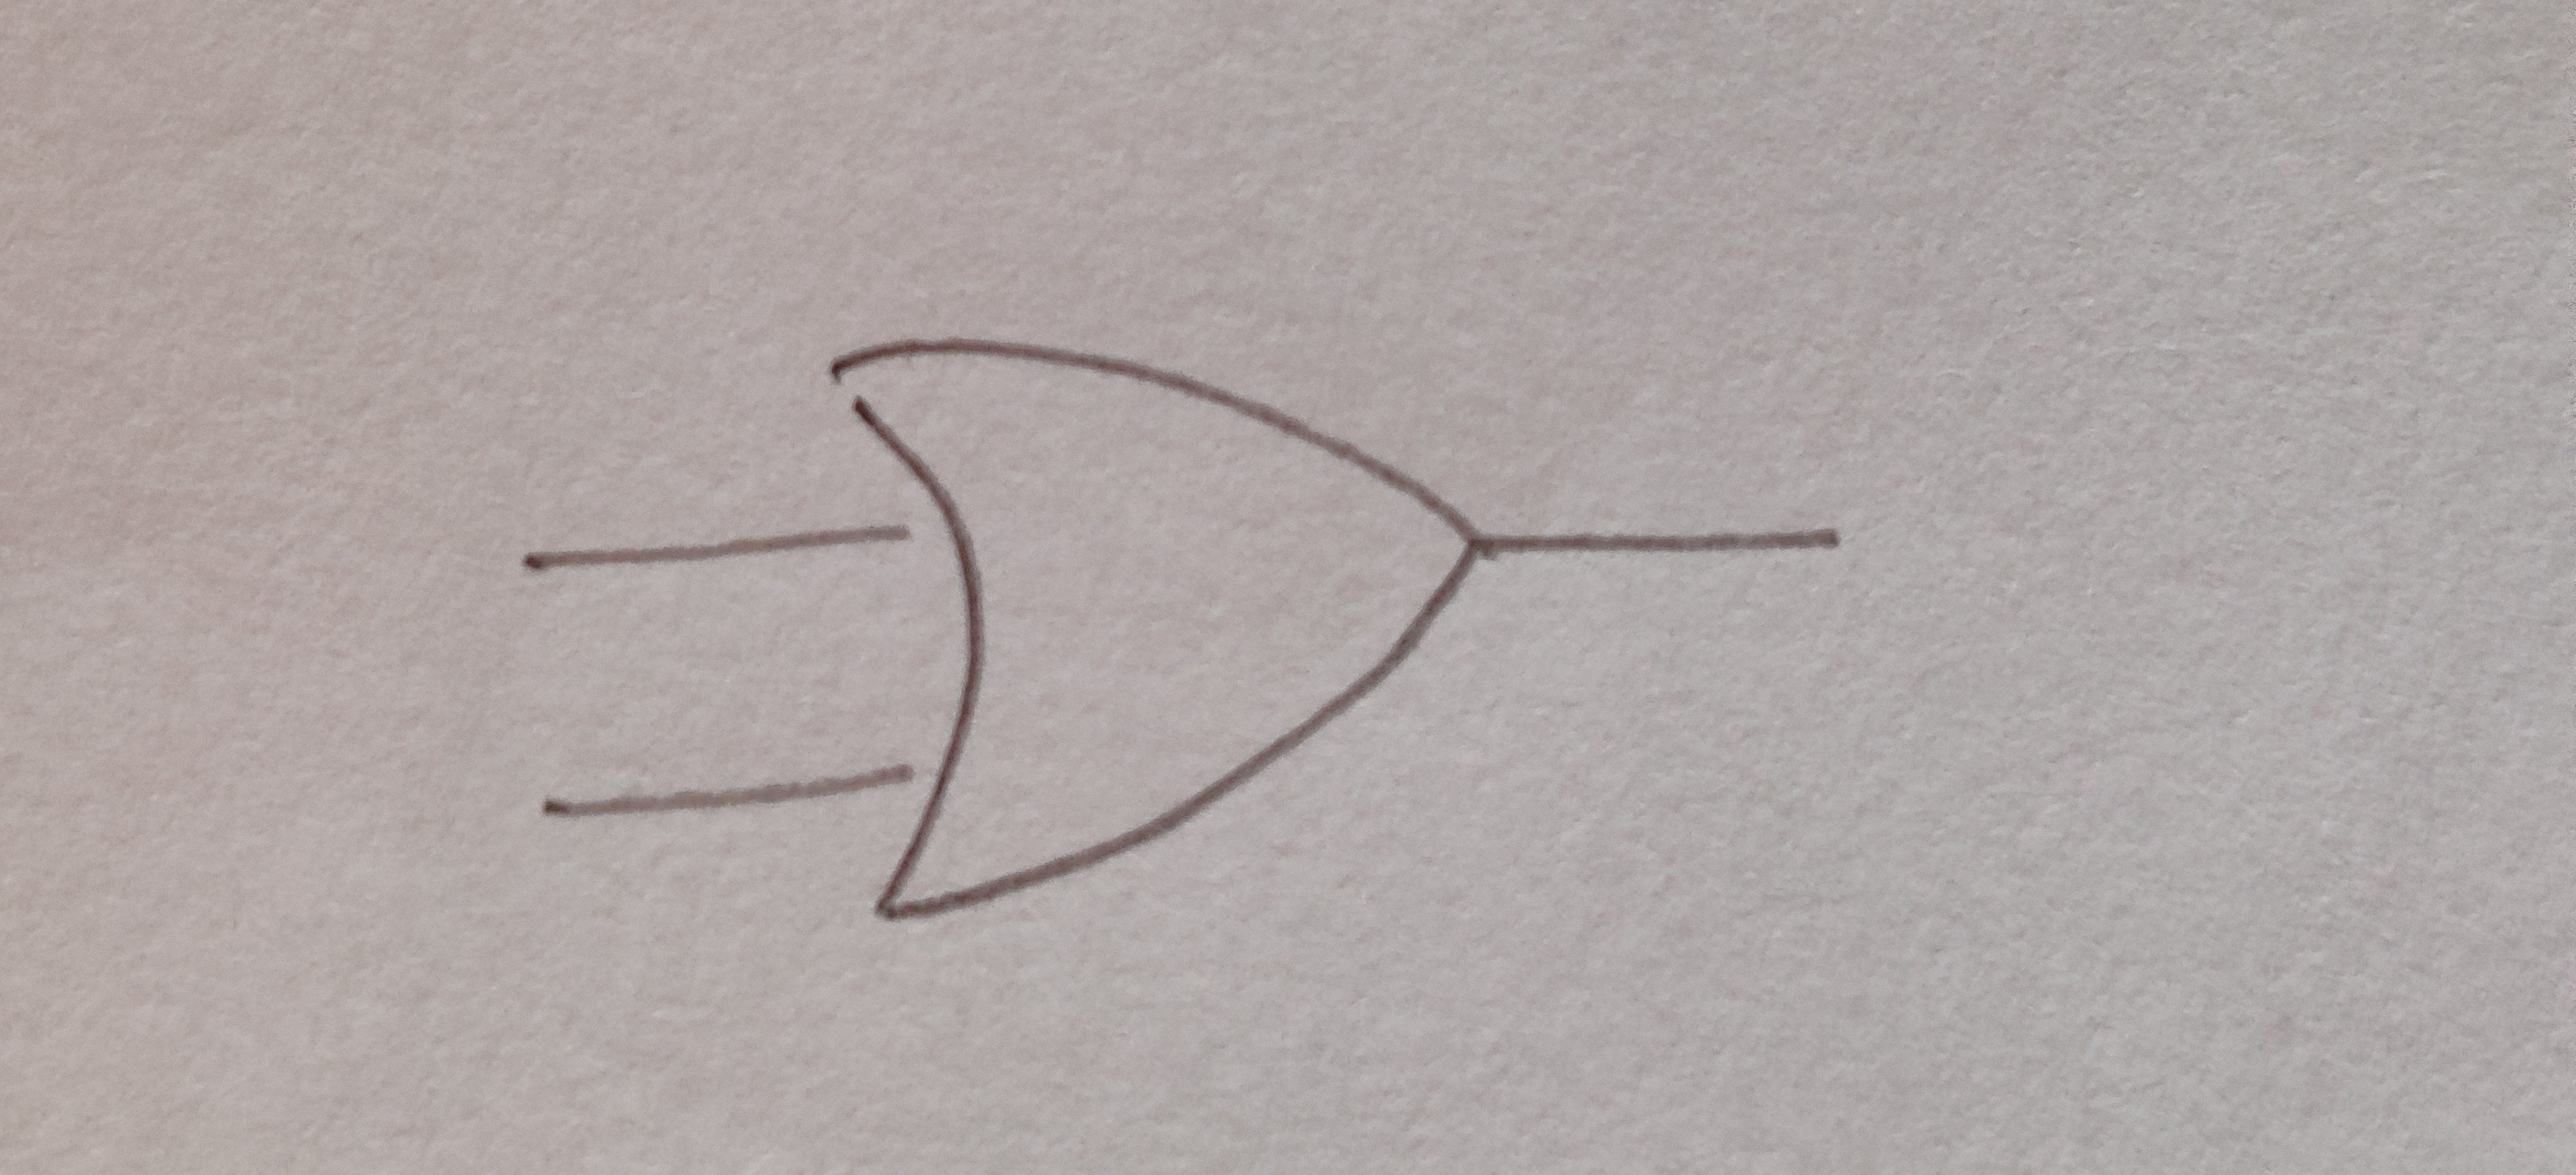or: (831, 340, 1479, 920)
